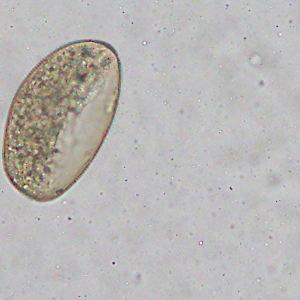Fasciola_hepatica_egg: (2, 39, 123, 203)
